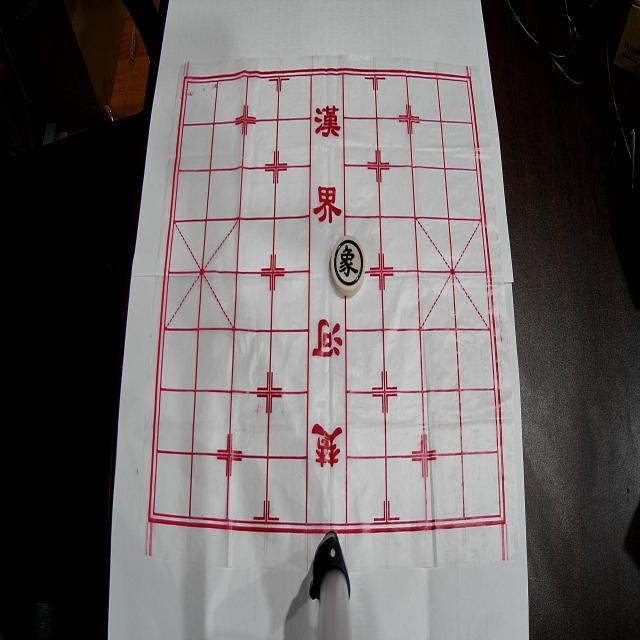black-elephant: (330, 236, 366, 296)
